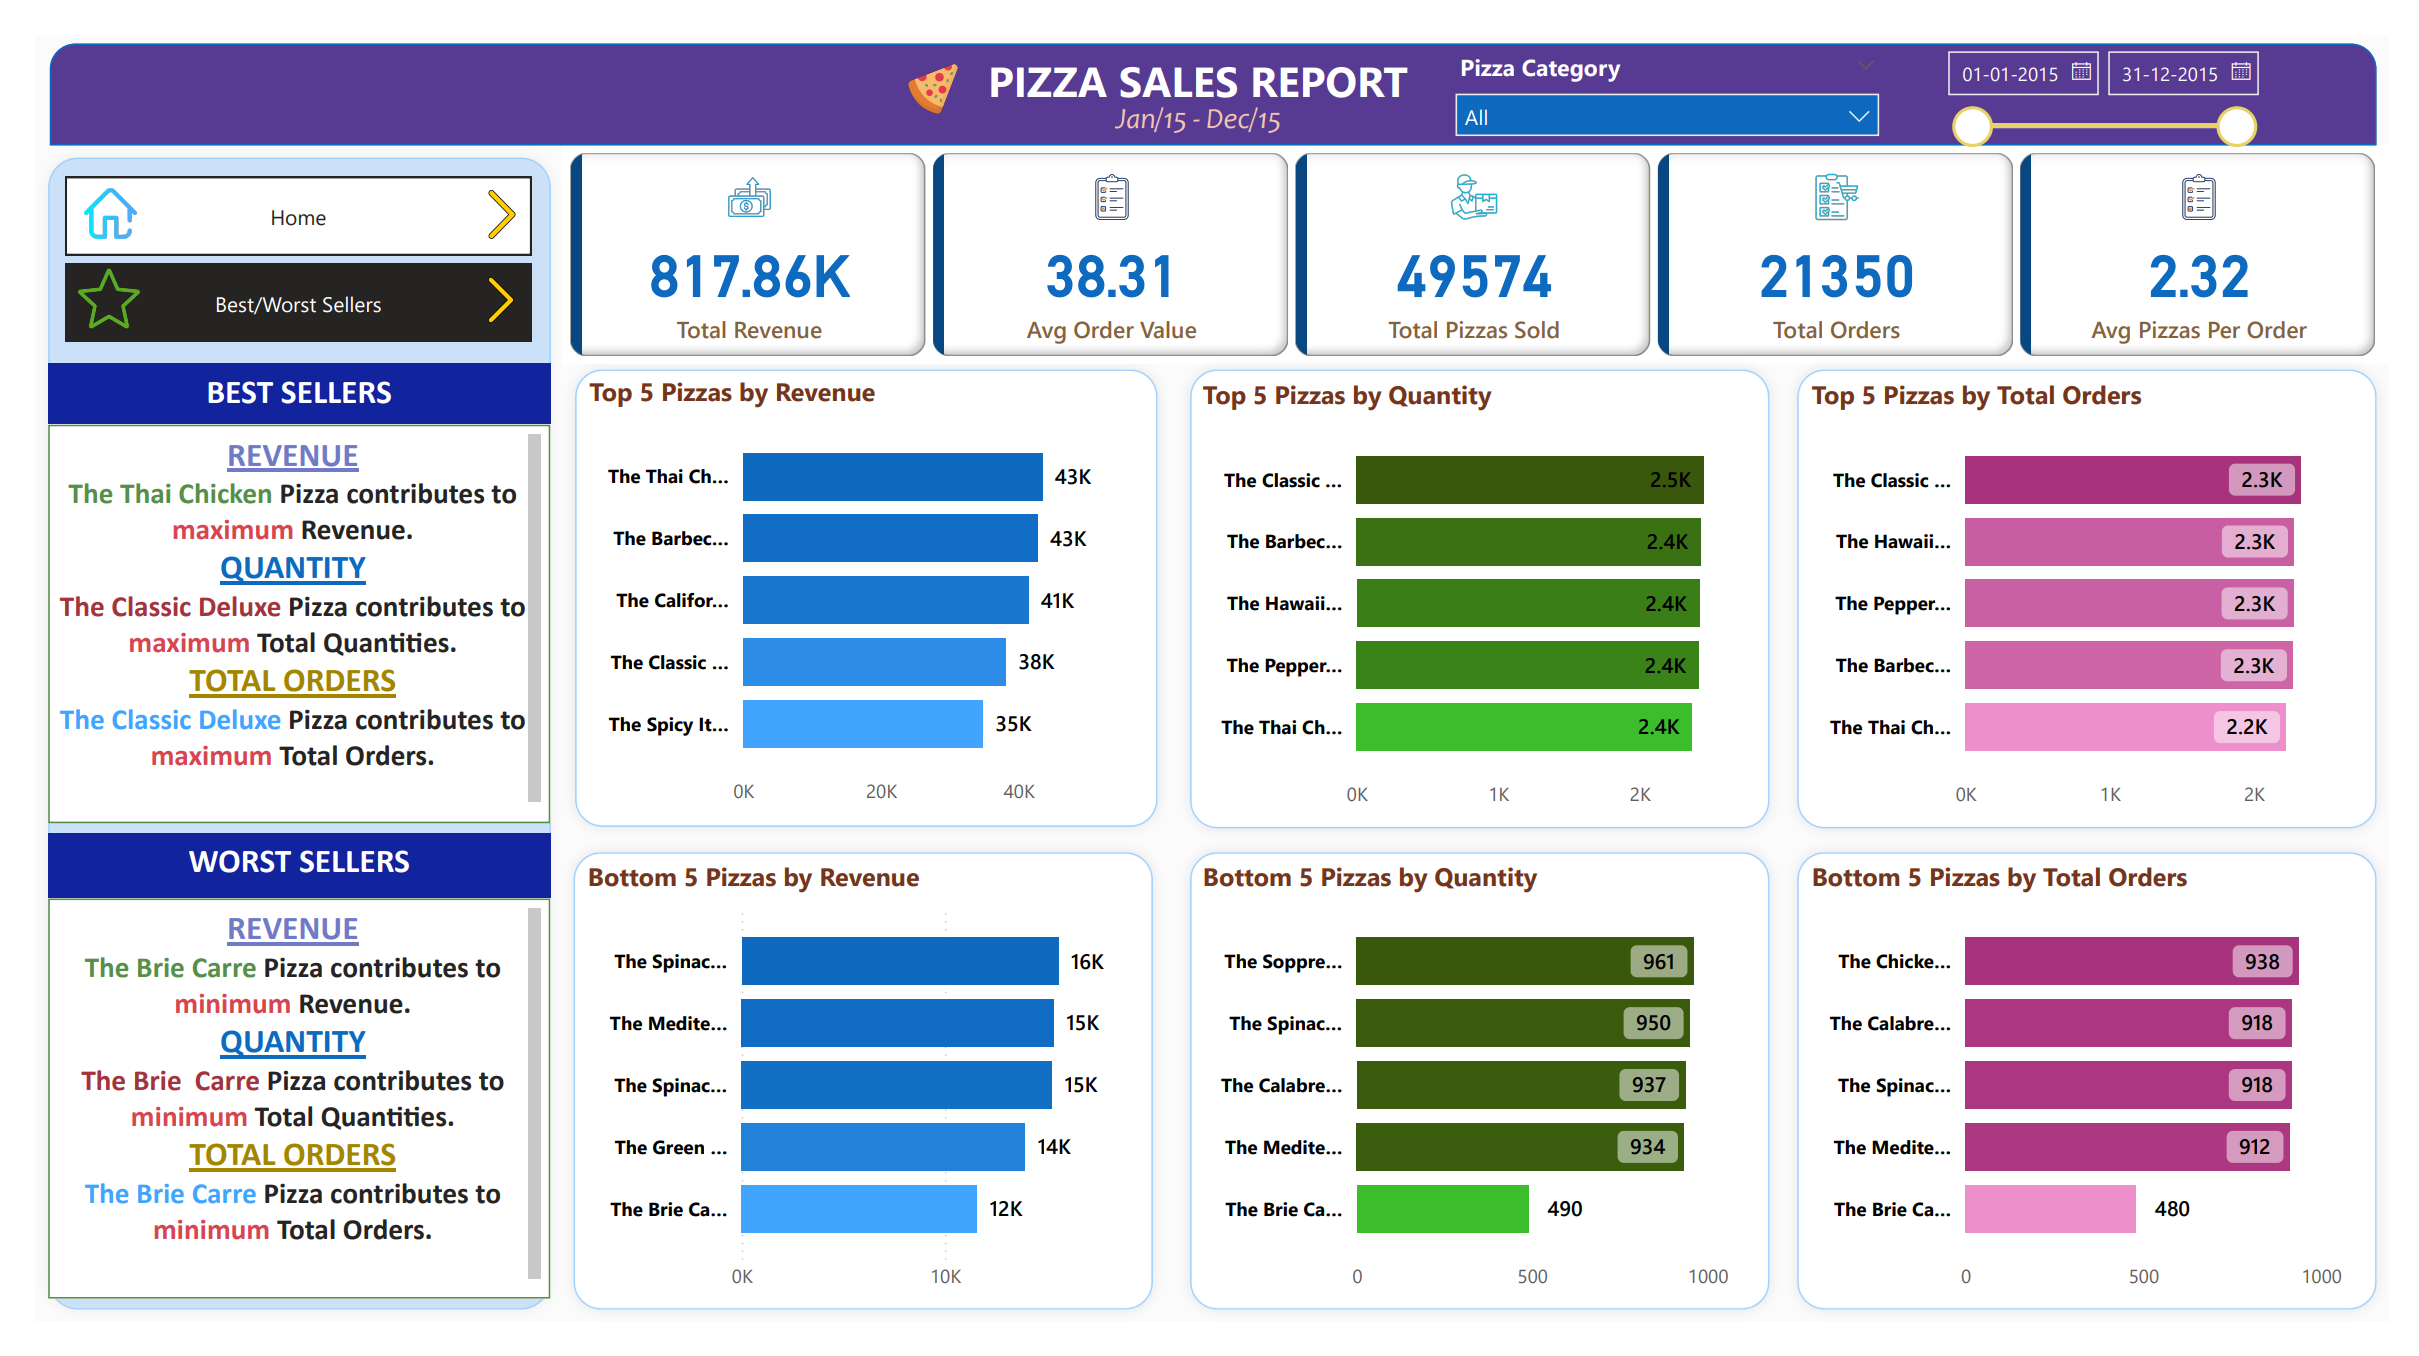

The dashboard page shown, as its layout file describes it:
{"tool":"powerbi","page":{"name":"Best/Worst Sellers","canvas":[1500,820],"ordinal":1},"visuals":[{"type":"shape","box":[0,70,336,750],"z":0},{"type":"shape","box":[336.4,204.5,387,307],"z":1000},{"type":"cardVisual","fields":{"Data":["pizza_sales.Total Revenue","pizza_sales.Avg Order Value","pizza_sales.Total Pizzas Sold","pizza_sales.Total Orders","pizza_sales.Avg Pizzas Per Order"]},"box":[336.4,69.7,1163.6,139.4],"z":2000},{"type":"shape","box":[9.1,4.5,1483.3,65.2],"z":3000},{"type":"textbox","box":[602.4,4.8,292.9,52.4],"z":4000},{"type":"textbox","box":[683,36.2,168.1,78.7],"z":5000},{"type":"image","box":[538.3,12.8,68.1,42.6],"z":6000},{"type":"textbox","box":[7.8,208.9,320,41.1],"z":7000},{"type":"textbox","box":[8,248,320,254],"z":8000},{"type":"textbox","box":[7.5,507.5,320,42.5],"z":9000},{"type":"textbox","box":[7.5,550,320,255],"z":10000},{"type":"slicer","fields":{"Values":["pizza_sales.pizza_category"]},"box":[895.4,4.6,290,65.4],"z":11000},{"type":"slicer","fields":{"Values":["pizza_sales.order_date"]},"box":[1206,0,218,76],"z":12000},{"type":"shape","box":[727.5,205,385,307.5],"z":13000},{"type":"shape","box":[1115,205,385,307.5],"z":14000},{"type":"shape","box":[335,512.5,385,307.5],"z":15000},{"type":"shape","box":[727.5,512.5,385,307.5],"z":16000},{"type":"shape","box":[1115,512.5,385,307.5],"z":17000},{"type":"barChart","title":"Top 5 Pizzas by Revenue","fields":{"Category":["pizza_sales.pizza_name"],"Y":["pizza_sales.Total Revenue"]},"box":[348,216,362,284],"z":18000},{"type":"barChart","title":"Bottom 5 Pizzas by Revenue","fields":{"Category":["pizza_sales.pizza_name"],"Y":["pizza_sales.Total Revenue"]},"box":[347,525,362,284],"z":19000},{"type":"barChart","title":"Top 5 Pizzas by Quantity","fields":{"Category":["pizza_sales.pizza_name"],"Y":["pizza_sales.Total Pizzas Sold"]},"box":[739,218,362,284],"z":20000},{"type":"barChart","title":"Bottom 5 Pizzas by Quantity","fields":{"Category":["pizza_sales.pizza_name"],"Y":["pizza_sales.Total Pizzas Sold"]},"box":[739,525,362,284],"z":21000},{"type":"barChart","title":"Top 5 Pizzas by Total Orders","fields":{"Category":["pizza_sales.pizza_name"],"Y":["pizza_sales.Total Orders"]},"box":[1127,218,362,284],"z":22000},{"type":"barChart","title":"Bottom 5 Pizzas by Total Orders","fields":{"Category":["pizza_sales.pizza_name"],"Y":["pizza_sales.Total Orders"]},"box":[1127,525,362,284],"z":23000}]}

Visuals, with their boxes in screenshot pixels (x1, y1, x2, y2):
shape: locate(38, 147, 563, 1319)
shape: locate(563, 357, 1168, 837)
cardVisual - pizza_sales.Total Revenue x pizza_sales.Avg Order Value: locate(563, 146, 2381, 364)
shape: locate(52, 45, 2370, 146)
textbox: locate(979, 45, 1437, 127)
textbox: locate(1105, 94, 1367, 217)
image: locate(879, 57, 985, 124)
textbox: locate(50, 364, 550, 428)
textbox: locate(50, 425, 550, 822)
textbox: locate(49, 830, 549, 897)
textbox: locate(49, 897, 549, 1295)
slicer - pizza_sales.pizza_category: locate(1437, 45, 1890, 147)
slicer - pizza_sales.order_date: locate(1922, 37, 2263, 156)
shape: locate(1174, 358, 1776, 838)
shape: locate(1780, 358, 2381, 838)
shape: locate(561, 838, 1163, 1319)
shape: locate(1174, 838, 1776, 1319)
shape: locate(1780, 838, 2381, 1319)
"Top 5 Pizzas by Revenue" barChart: locate(581, 375, 1147, 819)
"Bottom 5 Pizzas by Revenue" barChart: locate(580, 858, 1145, 1301)
"Top 5 Pizzas by Quantity" barChart: locate(1192, 378, 1758, 822)
"Bottom 5 Pizzas by Quantity" barChart: locate(1192, 858, 1758, 1301)
"Top 5 Pizzas by Total Orders" barChart: locate(1799, 378, 2364, 822)
"Bottom 5 Pizzas by Total Orders" barChart: locate(1799, 858, 2364, 1301)
